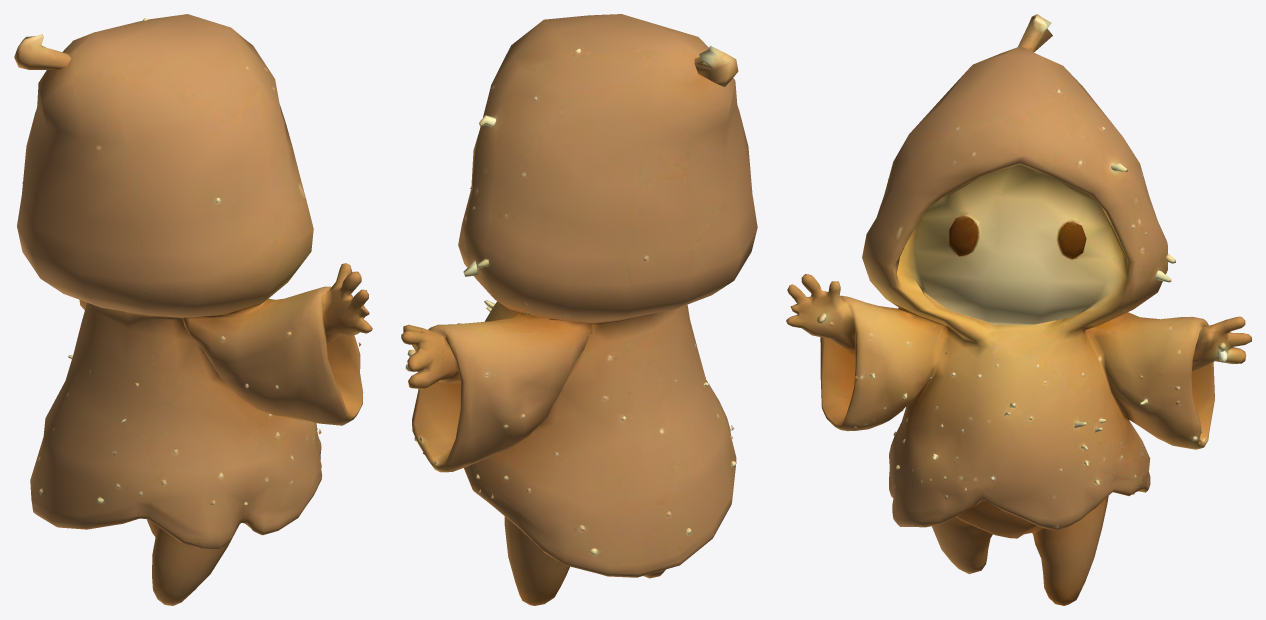
The model's file is p_wishling.glb.
The picture shows the model from 3 angles, left to right: view 1: azimuth 30°, elevation 25°; view 2: azimuth 150°, elevation 25°; view 3: azimuth 270°, elevation 25°; orthographic projection. The views are drawn at different scales.
Parts seen in each view (by area): view 1: tripo_node_4e6ad9df-aeb4-464b-8acd-00b65ca3df35; view 2: tripo_node_4e6ad9df-aeb4-464b-8acd-00b65ca3df35; view 3: tripo_node_4e6ad9df-aeb4-464b-8acd-00b65ca3df35.
Boxes of the visible parts, x1=… form: tripo_node_4e6ad9df-aeb4-464b-8acd-00b65ca3df35: x1=14, y1=14, x2=372, y2=605; tripo_node_4e6ad9df-aeb4-464b-8acd-00b65ca3df35: x1=401, y1=14, x2=757, y2=605; tripo_node_4e6ad9df-aeb4-464b-8acd-00b65ca3df35: x1=786, y1=14, x2=1251, y2=605.
Bounding box in the file's own units: 0.4911 × 1 × 0.816.
Materials: 1 (1 with a texture image).
